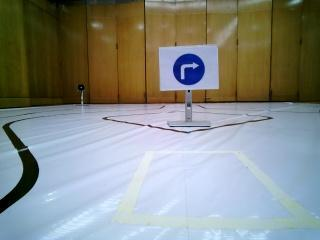right: (163, 50, 216, 88)
